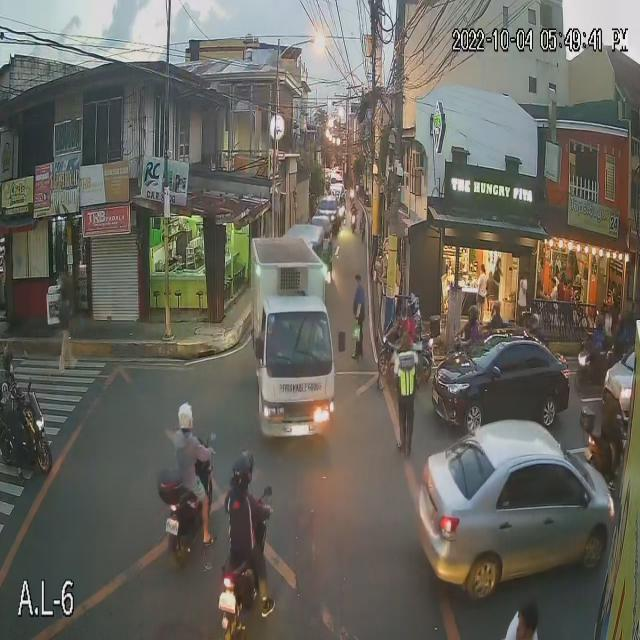helmet: (226, 450, 258, 491), (175, 398, 200, 435), (0, 342, 19, 379), (521, 311, 546, 338), (485, 296, 509, 324), (607, 377, 625, 403), (591, 310, 608, 332), (409, 293, 425, 315), (617, 306, 632, 327), (466, 303, 480, 325)
motorcycle: (214, 499, 289, 638), (166, 443, 221, 560), (0, 400, 53, 476), (580, 421, 628, 485), (377, 337, 437, 385), (573, 346, 617, 388), (348, 211, 358, 236)
rider: (168, 395, 212, 498), (226, 449, 265, 559), (0, 341, 22, 420), (602, 373, 623, 441), (406, 290, 433, 340), (459, 301, 483, 354), (490, 290, 513, 341), (526, 306, 547, 352), (613, 307, 632, 354), (591, 309, 609, 356)
